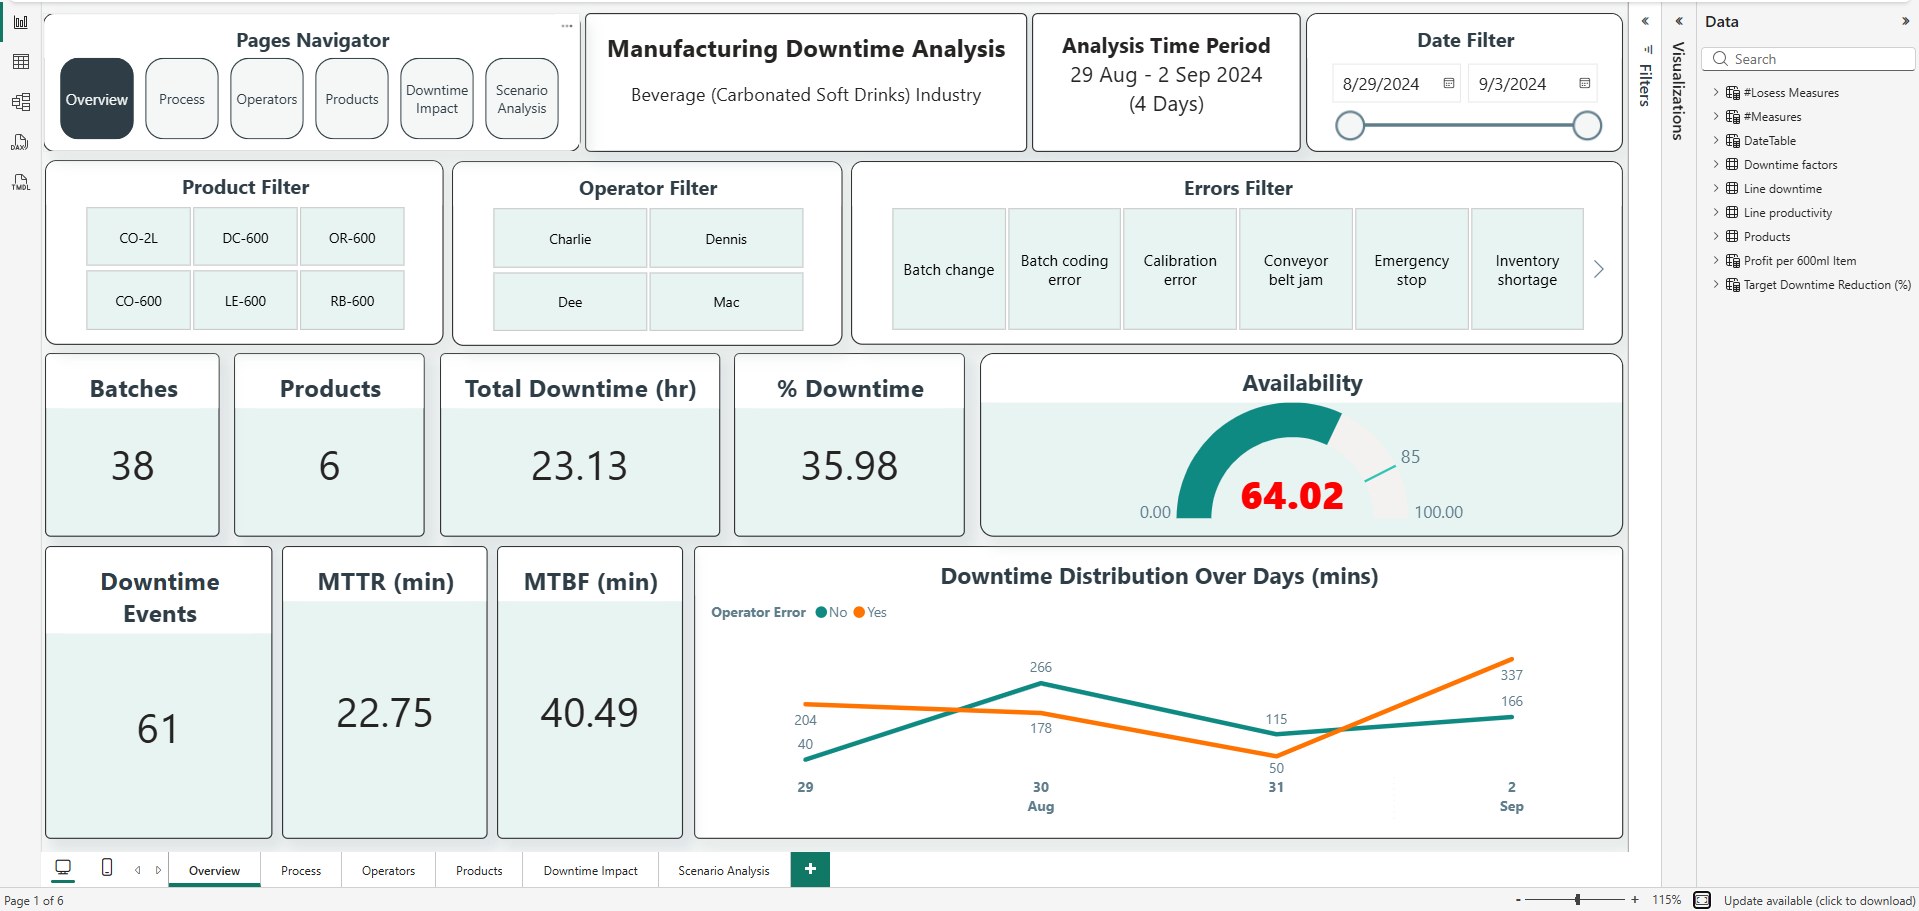

The dashboard page shown, as its layout file describes it:
{"tool":"powerbi","page":{"name":"Overview","canvas":[1380,740],"ordinal":0},"visuals":[{"type":"card","title":"Products","fields":{"Values":["CountNonNull(Products.Product)"]},"box":[167.6,305.5,165.9,160.1],"z":0},{"type":"card","title":"Total Downtime (hr)","fields":{"Values":["#Measures.Total Downtime (hr)"]},"box":[346.3,305.9,243.6,159.9],"z":1000},{"type":"card","title":"% Downtime","fields":{"Values":["Line downtime.downtime percentage"]},"box":[602.8,305.9,200.9,159.9],"z":2000},{"type":"card","title":"Batches","fields":{"Values":["#Measures.Number of Batches"]},"box":[2.3,305.5,152.4,160.1],"z":3000},{"type":"slicer","title":"Product Filter","fields":{"Values":["Products.Product"]},"box":[2.8,137.6,346.9,160.9],"z":4000},{"type":"slicer","title":"Operator Filter","fields":{"Values":["Line productivity.Operator"]},"box":[357.4,138.6,339.6,161.1],"z":5000},{"type":"textbox","box":[472.6,9.5,385.1,121.4],"z":6000},{"type":"textbox","box":[861.8,9.5,234.3,121.4],"z":7000},{"type":"lineChart","title":"Downtime Distribution Over Days (mins)","fields":{"Category":["DateTable.MonthShort","DateTable.Day"],"Series":["Downtime factors.Operator Error"],"Y":["#Measures.Total Downtime (min)"]},"box":[567.3,473.3,809,254.8],"z":8000},{"type":"slicer","title":"Date Filter","fields":{"Values":["Line productivity.Date"]},"box":[1100.2,9.5,276,121.4],"z":9000},{"type":"pageNavigator","title":"Pages Navigator","box":[0.9,9.5,467.6,121.4],"z":10000},{"type":"card","title":"Downtime Events","fields":{"Values":["#Measures.Downtime Events"]},"box":[2.8,473.3,185.1,254.8],"z":11000},{"type":"slicer","title":"Errors Filter","fields":{"Values":["Downtime factors.Description"]},"box":[703.9,138.6,672.3,159.9],"z":12000},{"type":"gauge","title":"Availability","fields":{"Y":["#Measures.Availability %"],"TargetValue":["#Measures.Target OEE"]},"box":[816.5,305.9,559.8,159.9],"z":13000},{"type":"card","title":"MTTR (min)","fields":{"Values":["#Measures.MTTR"]},"box":[198.5,473.3,175.8,254.8],"z":14000},{"type":"card","title":"MTBF (min)","fields":{"Values":["#Measures.MTBF"]},"box":[385,473.3,174.8,254.8],"z":15000}]}

Visuals, with their boxes on the page's 1380x740 design canvas (x1, y1, x2, y2). These are canvas units, not pixel positions in the 1919x911 screenshot, which may show the page scaled, cropped or inside an application window:
"Products" card: (168,306,334,466)
"Total Downtime (hr)" card: (346,306,590,466)
"% Downtime" card: (603,306,804,466)
"Batches" card: (2,306,155,466)
"Product Filter" slicer: (3,138,350,298)
"Operator Filter" slicer: (357,139,697,300)
textbox: (473,10,858,131)
textbox: (862,10,1096,131)
"Downtime Distribution Over Days (mins)" lineChart: (567,473,1376,728)
"Date Filter" slicer: (1100,10,1376,131)
"Pages Navigator" pageNavigator: (1,10,468,131)
"Downtime Events" card: (3,473,188,728)
"Errors Filter" slicer: (704,139,1376,298)
"Availability" gauge: (816,306,1376,466)
"MTTR (min)" card: (198,473,374,728)
"MTBF (min)" card: (385,473,560,728)
